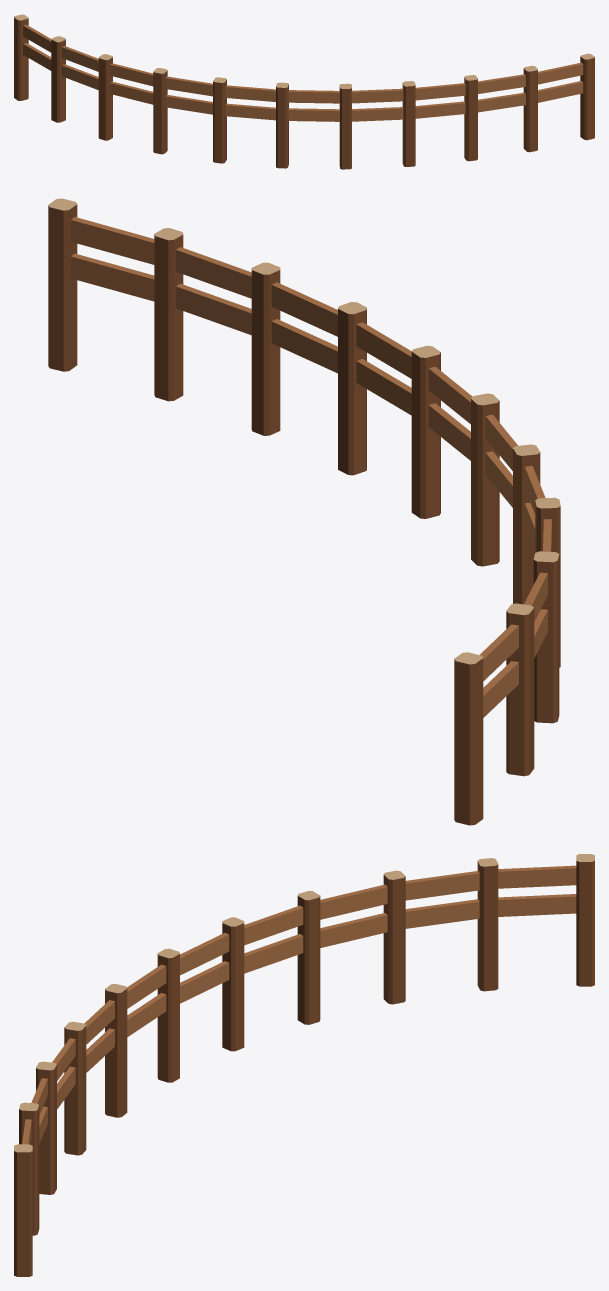
The model's file is Prop_Decorative_Fence_Curve_5x6.obj.
The picture shows the model from 3 angles, top to bottom: view 1: azimuth 30°, elevation 25°; view 2: azimuth 150°, elevation 25°; view 3: azimuth 270°, elevation 25°; orthographic projection. The views are drawn at different scales.
Visible parts, largest first — view 1: Fence_Rail, Fence_Post_Side, Fence_Post_Top; view 2: Fence_Post_Side, Fence_Rail, Fence_Post_Top; view 3: Fence_Post_Side, Fence_Rail, Fence_Post_Top.
Part boxes in pixels (bbox=[...]): Fence_Rail: bbox=[23, 24, 583, 121]; Fence_Post_Side: bbox=[14, 17, 594, 169]; Fence_Post_Top: bbox=[14, 14, 594, 88]; Fence_Post_Side: bbox=[48, 204, 560, 825]; Fence_Rail: bbox=[71, 217, 551, 717]; Fence_Post_Top: bbox=[48, 198, 560, 664]; Fence_Post_Side: bbox=[14, 861, 594, 1276]; Fence_Rail: bbox=[22, 865, 576, 1144]; Fence_Post_Top: bbox=[14, 854, 594, 1152].
Size of the model in its own units: 5.65 by 1.1 by 4.65.
